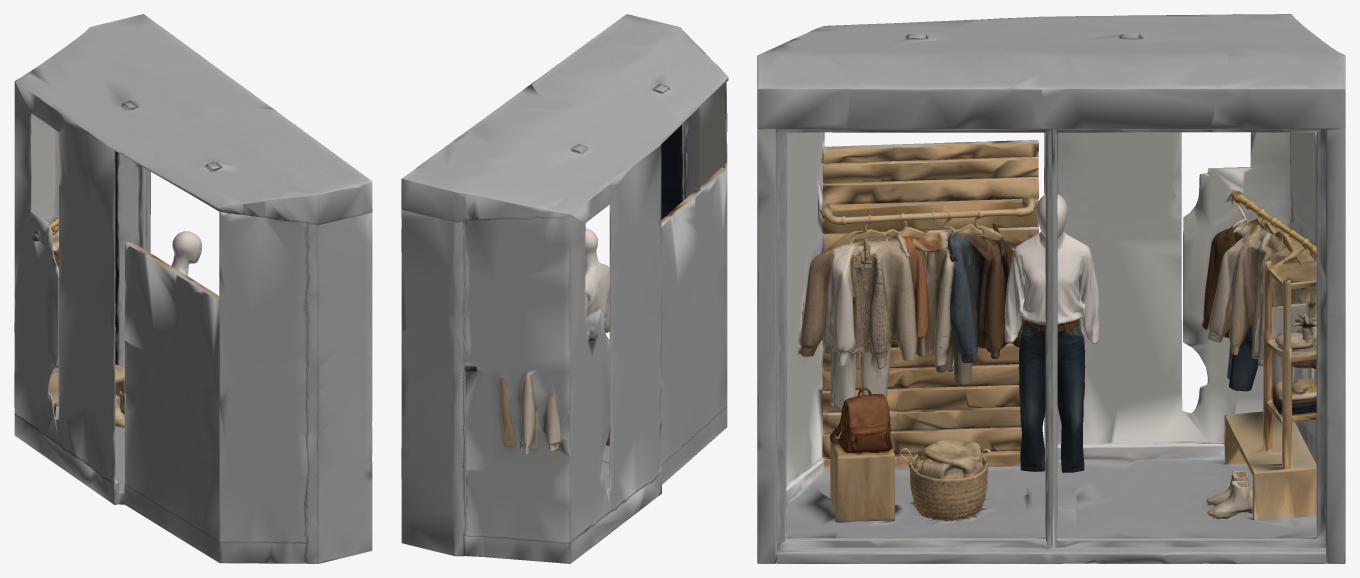
The model's file is frontelw.glb.
The picture shows the model from 3 angles, left to right: view 1: azimuth 30°, elevation 25°; view 2: azimuth 150°, elevation 25°; view 3: azimuth 270°, elevation 25°; orthographic projection. The views are drawn at different scales.
Parts seen in each view (by area): view 1: tripo_node_15f023c5-fded-41e5-b31d-ea46dc93f6ba; view 2: tripo_node_15f023c5-fded-41e5-b31d-ea46dc93f6ba; view 3: tripo_node_15f023c5-fded-41e5-b31d-ea46dc93f6ba.
Boxes of the visible parts, x1,y1,x2,y2 form: tripo_node_15f023c5-fded-41e5-b31d-ea46dc93f6ba: [14, 14, 372, 563]; tripo_node_15f023c5-fded-41e5-b31d-ea46dc93f6ba: [401, 14, 728, 563]; tripo_node_15f023c5-fded-41e5-b31d-ea46dc93f6ba: [757, 14, 1345, 563].
Size of the model in its own units: 0.9148 by 2.1 by 2.35.
1 material, 1 textured.
